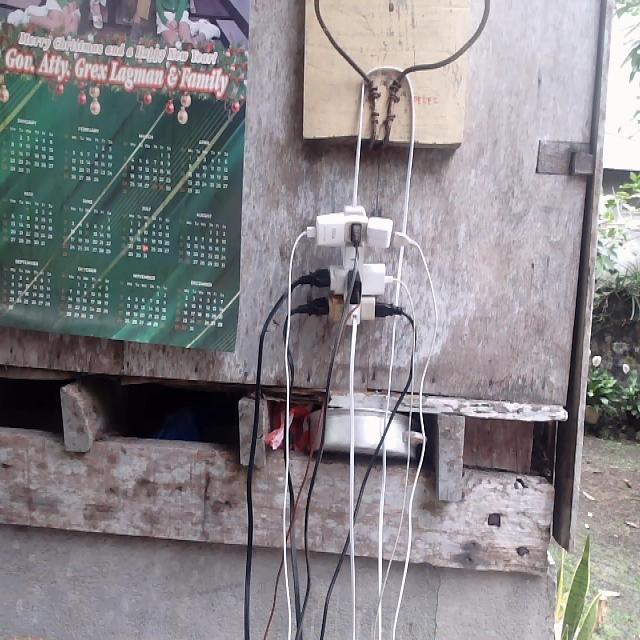-: (295, 203, 419, 332)
